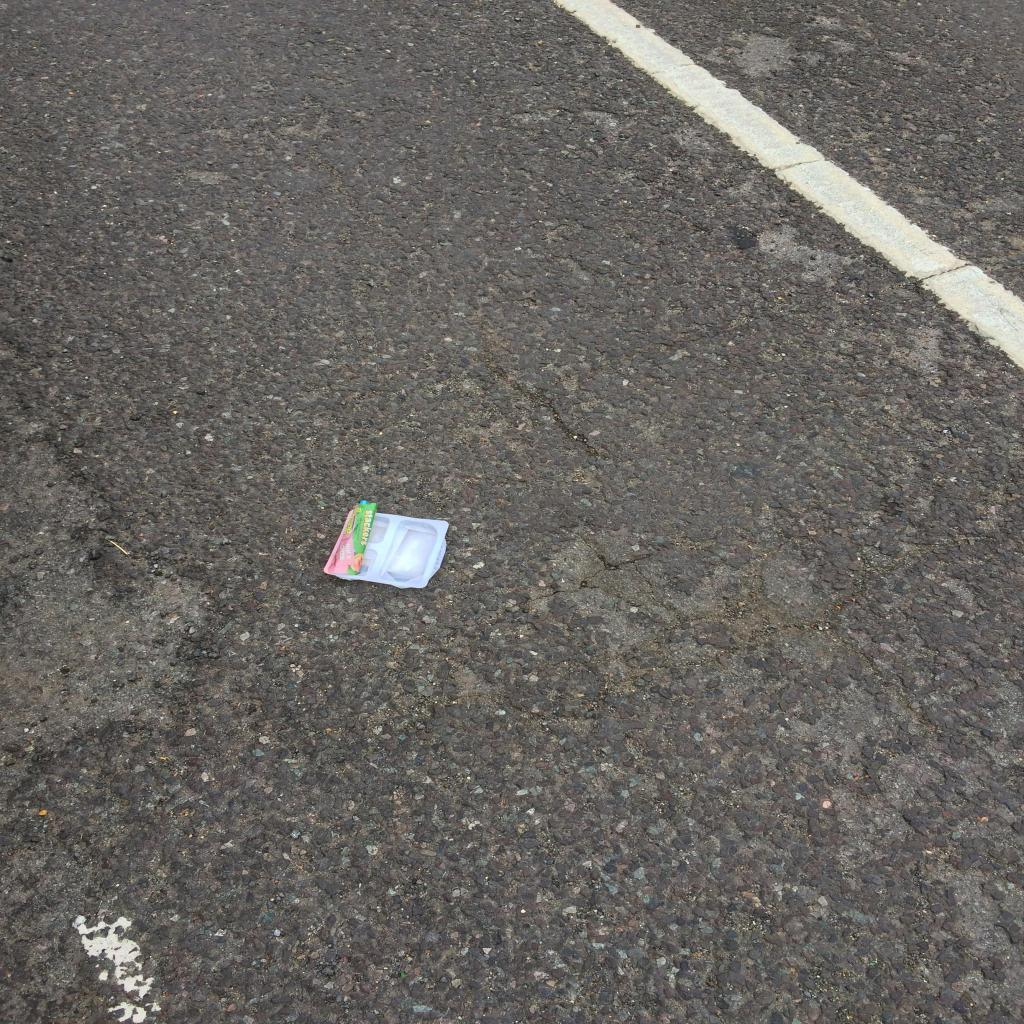Plastic film: (324, 500, 378, 574)
